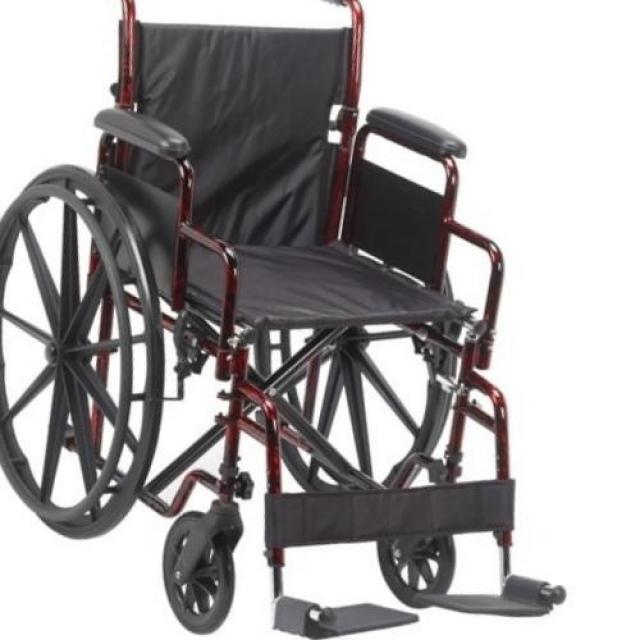wheelchair: (0, 2, 579, 640)
